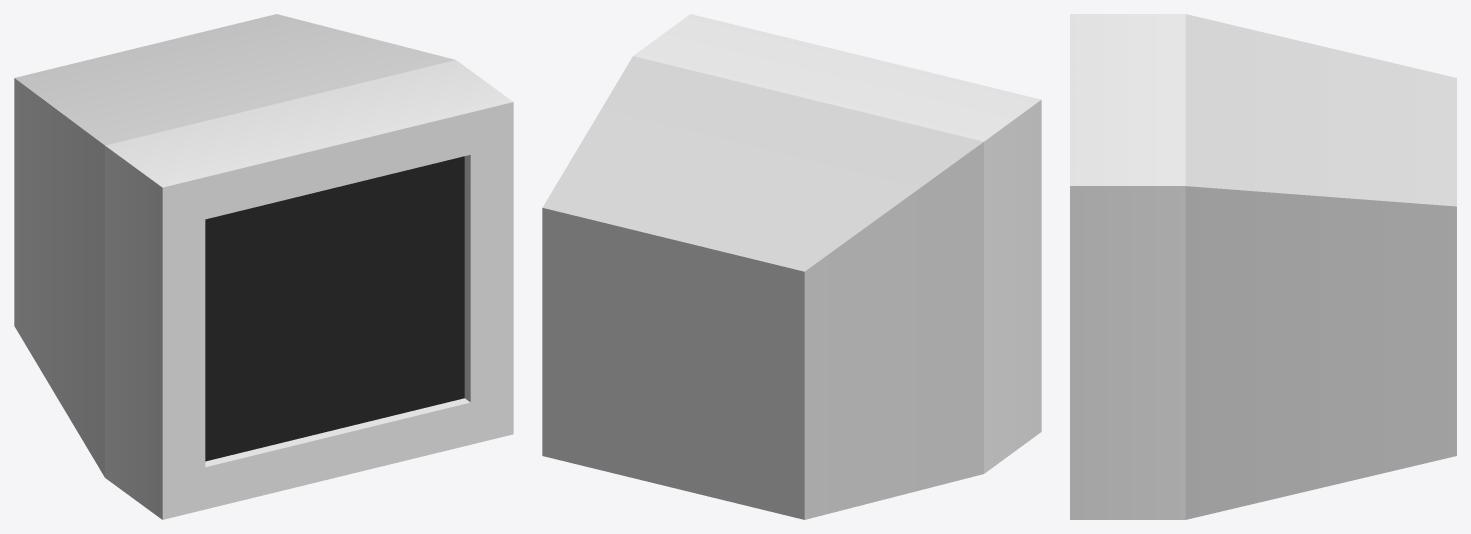
File: Itr_Obj_Monitor_CRT_Screen_Off_04.FBX
The picture shows the model from 3 angles, left to right: view 1: azimuth 30°, elevation 25°; view 2: azimuth 150°, elevation 25°; view 3: azimuth 270°, elevation 25°; orthographic projection.
Parts seen in each view (by area): view 1: Itr_Obj_Monitor_CRT_Screen_Off_04; view 2: Itr_Obj_Monitor_CRT_Screen_Off_04; view 3: Itr_Obj_Monitor_CRT_Screen_Off_04.
Boxes of the visible parts, left/top/right/bottom form: Itr_Obj_Monitor_CRT_Screen_Off_04: left=14, top=14, right=513, bottom=519; Itr_Obj_Monitor_CRT_Screen_Off_04: left=542, top=14, right=1041, bottom=519; Itr_Obj_Monitor_CRT_Screen_Off_04: left=1070, top=14, right=1456, bottom=519.
Bounding box in the file's own units: 20.38 × 18.44 × 19.36.
